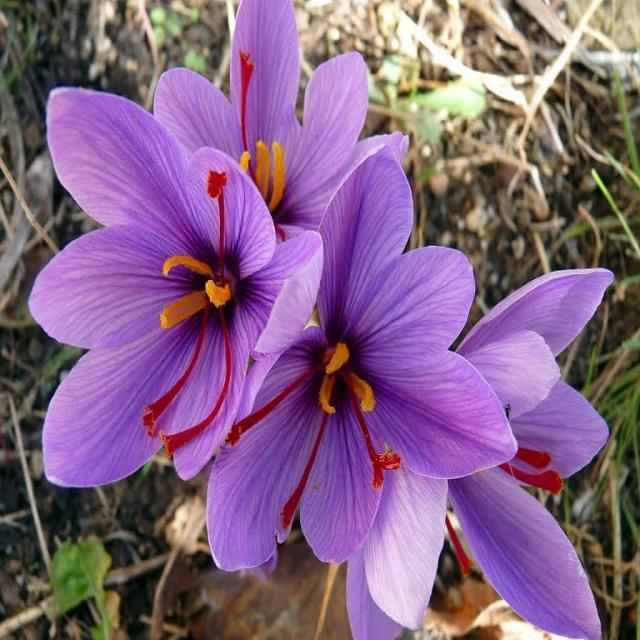Flower: (202, 149, 520, 573), (28, 88, 327, 490), (345, 268, 615, 636), (151, 2, 371, 229)
stigma: (157, 306, 234, 458), (141, 300, 209, 439), (224, 366, 318, 449), (279, 410, 332, 533), (349, 387, 406, 489), (204, 170, 229, 283), (236, 50, 257, 181), (442, 510, 478, 581), (500, 460, 566, 498), (516, 445, 553, 470)
